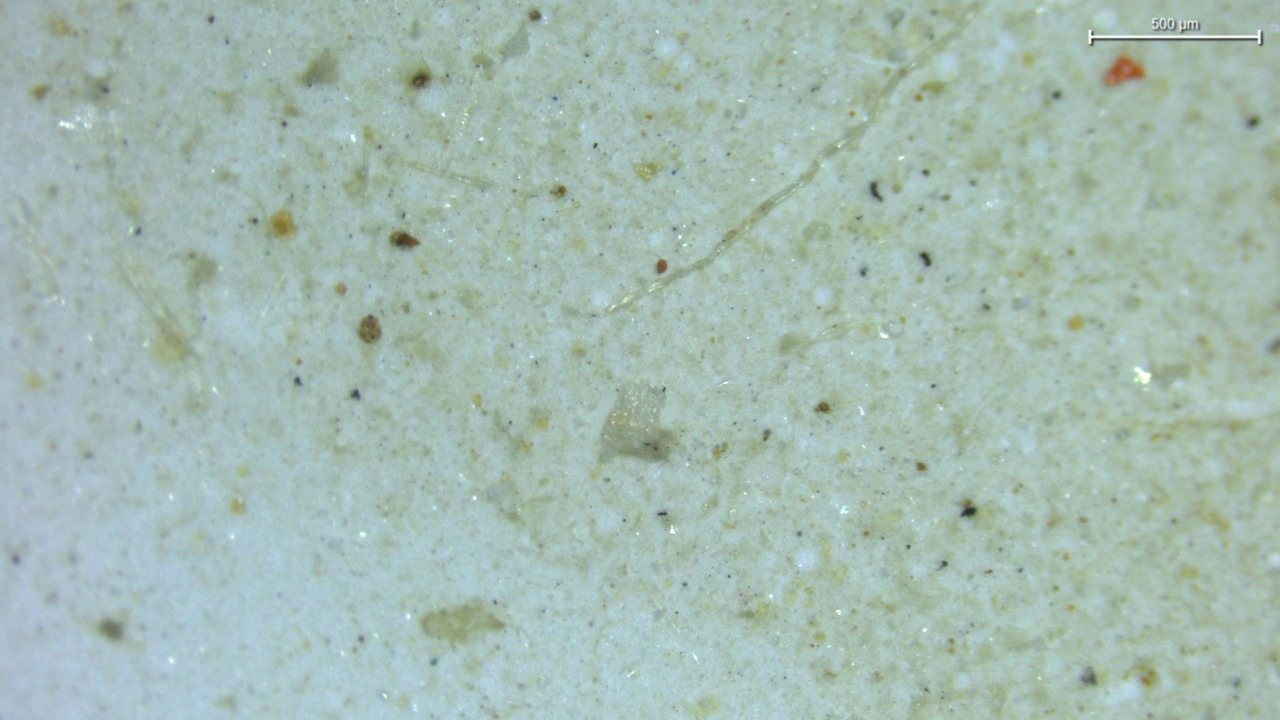microplastic_fragment: (600, 384, 673, 462)
